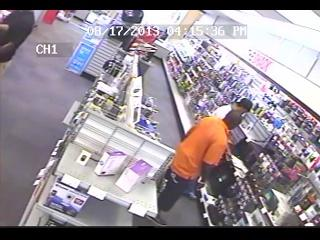Normal: (156, 98, 253, 218), (1, 10, 36, 64)
